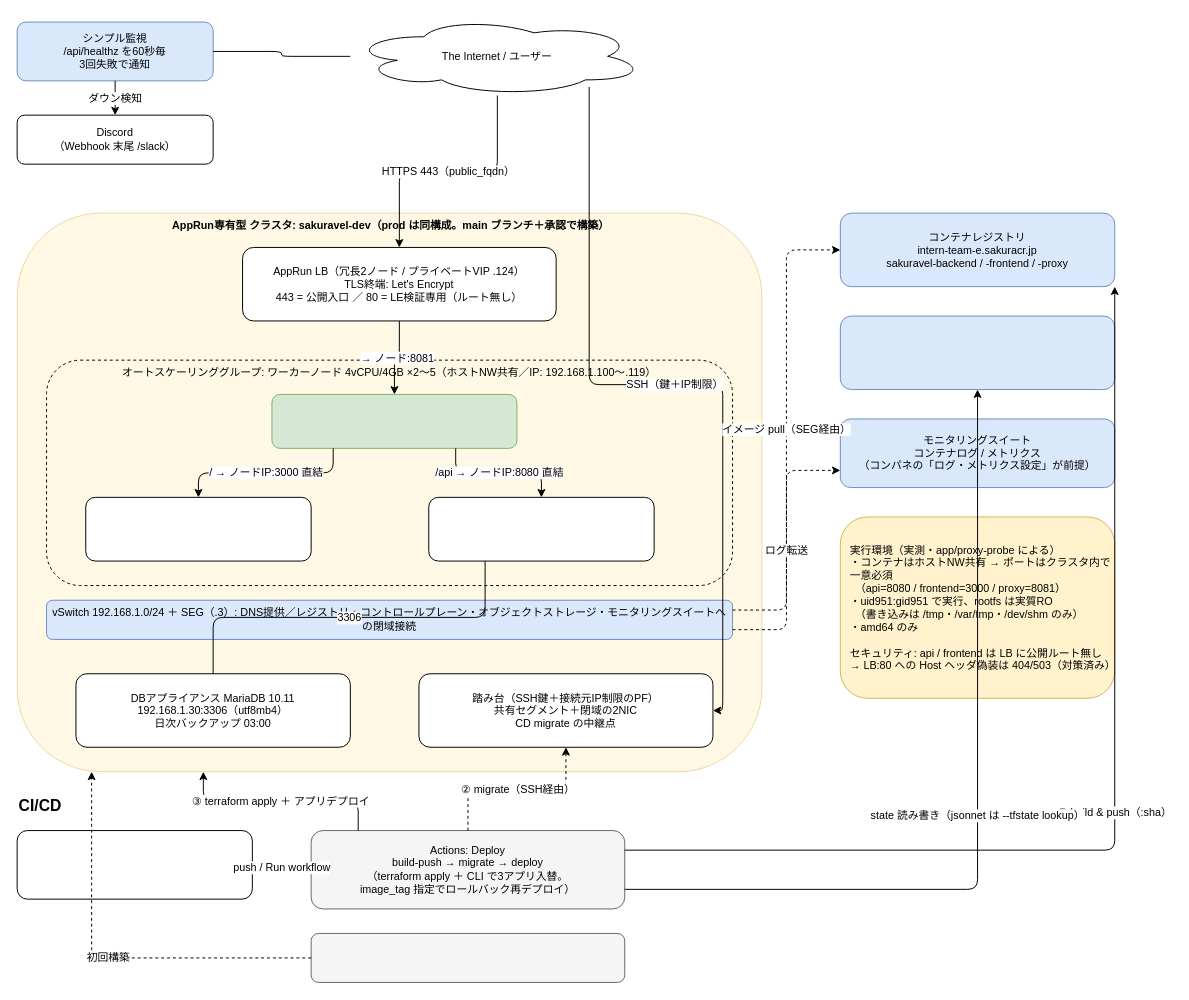
The diagram is 1189 pixels wide and 1000 high, and some of its shapes have lost their labels. Each missing label, with the centre of its shape:
"Actions: Bootstrap Infra（手動発火） 初回の「箱」構築／apply 単発実行" goes at (467,957).
"api（Go）:8080 1000m/1024Mi" goes at (541,528).
"frontend :3000 500m/512Mi" goes at (198,528).
"GitHub リポジトリ dev → dev環境 / main → prod環境（承認付き）" goes at (134,864).
"proxy（nginx）:8081 250m/256Mi・スケール 1〜2(dev)" goes at (394,420).
"オブジェクトストレージ（石狩 isk01） バケット: sakuravel-app-tf tfstate（workspace: dev / prod）" goes at (977,352).
